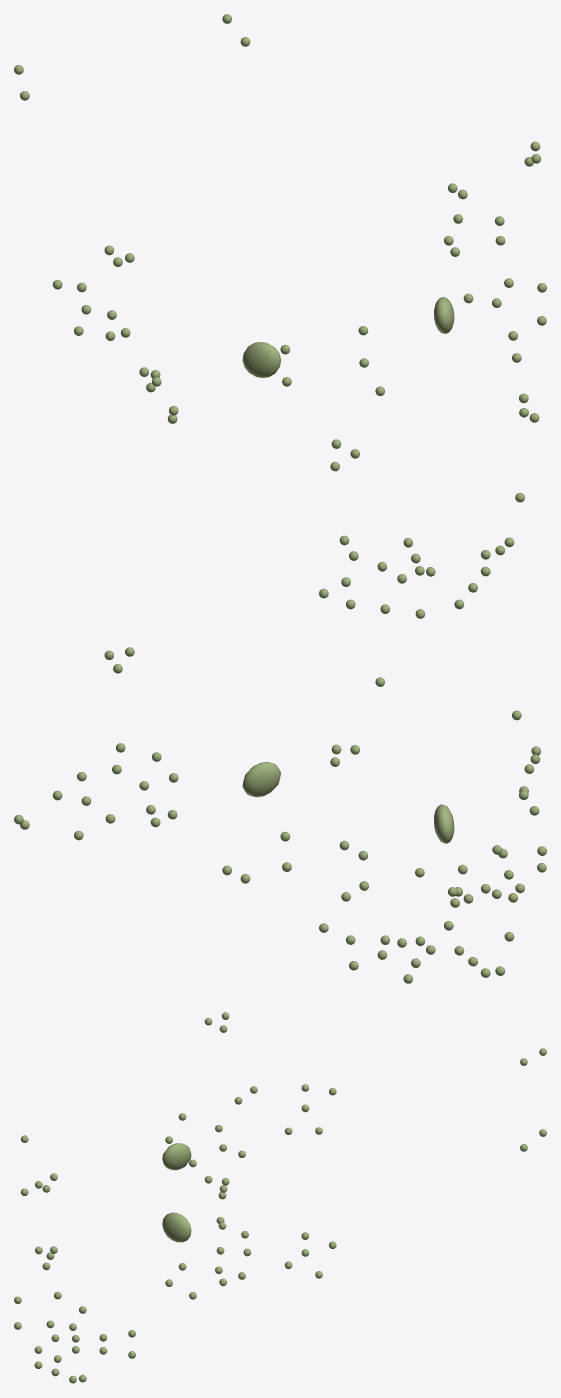
Rendered from detail-lymphatic-head.glb.
3 renders of one model, top to bottom at view 1: azimuth 30°, elevation 25°; view 2: azimuth 150°, elevation 25°; view 3: azimuth 270°, elevation 25°, orthographic. The views are drawn at different scales.
Visible parts, largest first — view 1: za-a9ef4720e72f7376; view 2: za-c13a6ac1ad168a7c, za-a9ef4720e72f7376, za-cbc8df5a940a0ee3; view 3: za-c13a6ac1ad168a7c, za-a9ef4720e72f7376.
Boxes of the visible parts, <box> form: za-a9ef4720e72f7376: <box>242,342,280,377</box>; za-c13a6ac1ad168a7c: <box>242,761,280,797</box>; za-a9ef4720e72f7376: <box>434,804,454,843</box>; za-cbc8df5a940a0ee3: <box>52,772,115,840</box>; za-c13a6ac1ad168a7c: <box>162,1212,191,1242</box>; za-a9ef4720e72f7376: <box>162,1143,191,1170</box>.
Size of the model in its own units: 0.1324 by 0.0995 by 0.1766.
